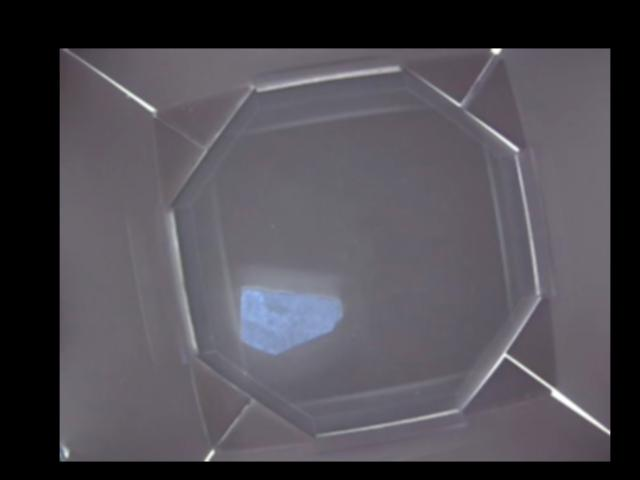China: (238, 285, 340, 349)
